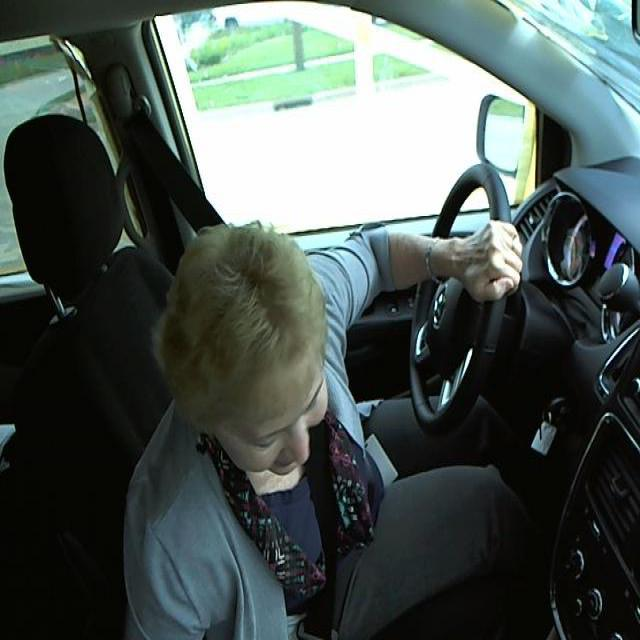seatbelt: (293, 452, 374, 625)
